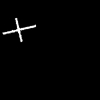single_crochet: (3, 18, 35, 41)
